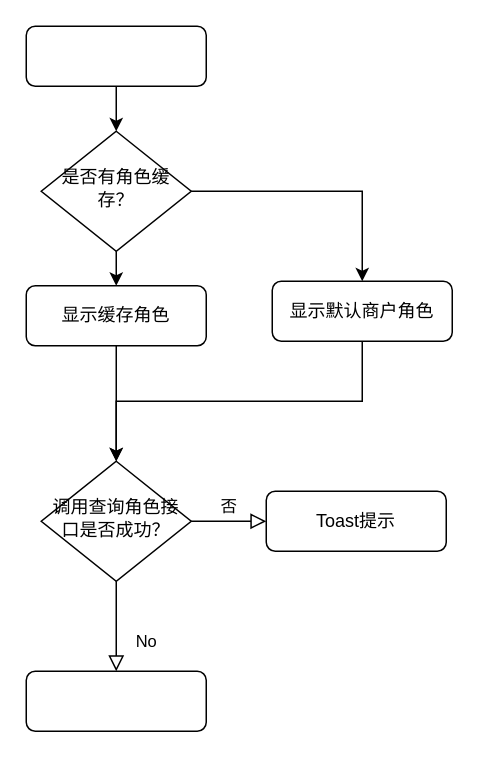
This 479x758 diagram has some shape labels left out. Here are the shapes that lost their labels. From the top down, the centre of each, then its label:
[115,55]: App首页
[115,700]: Repair Lamp
